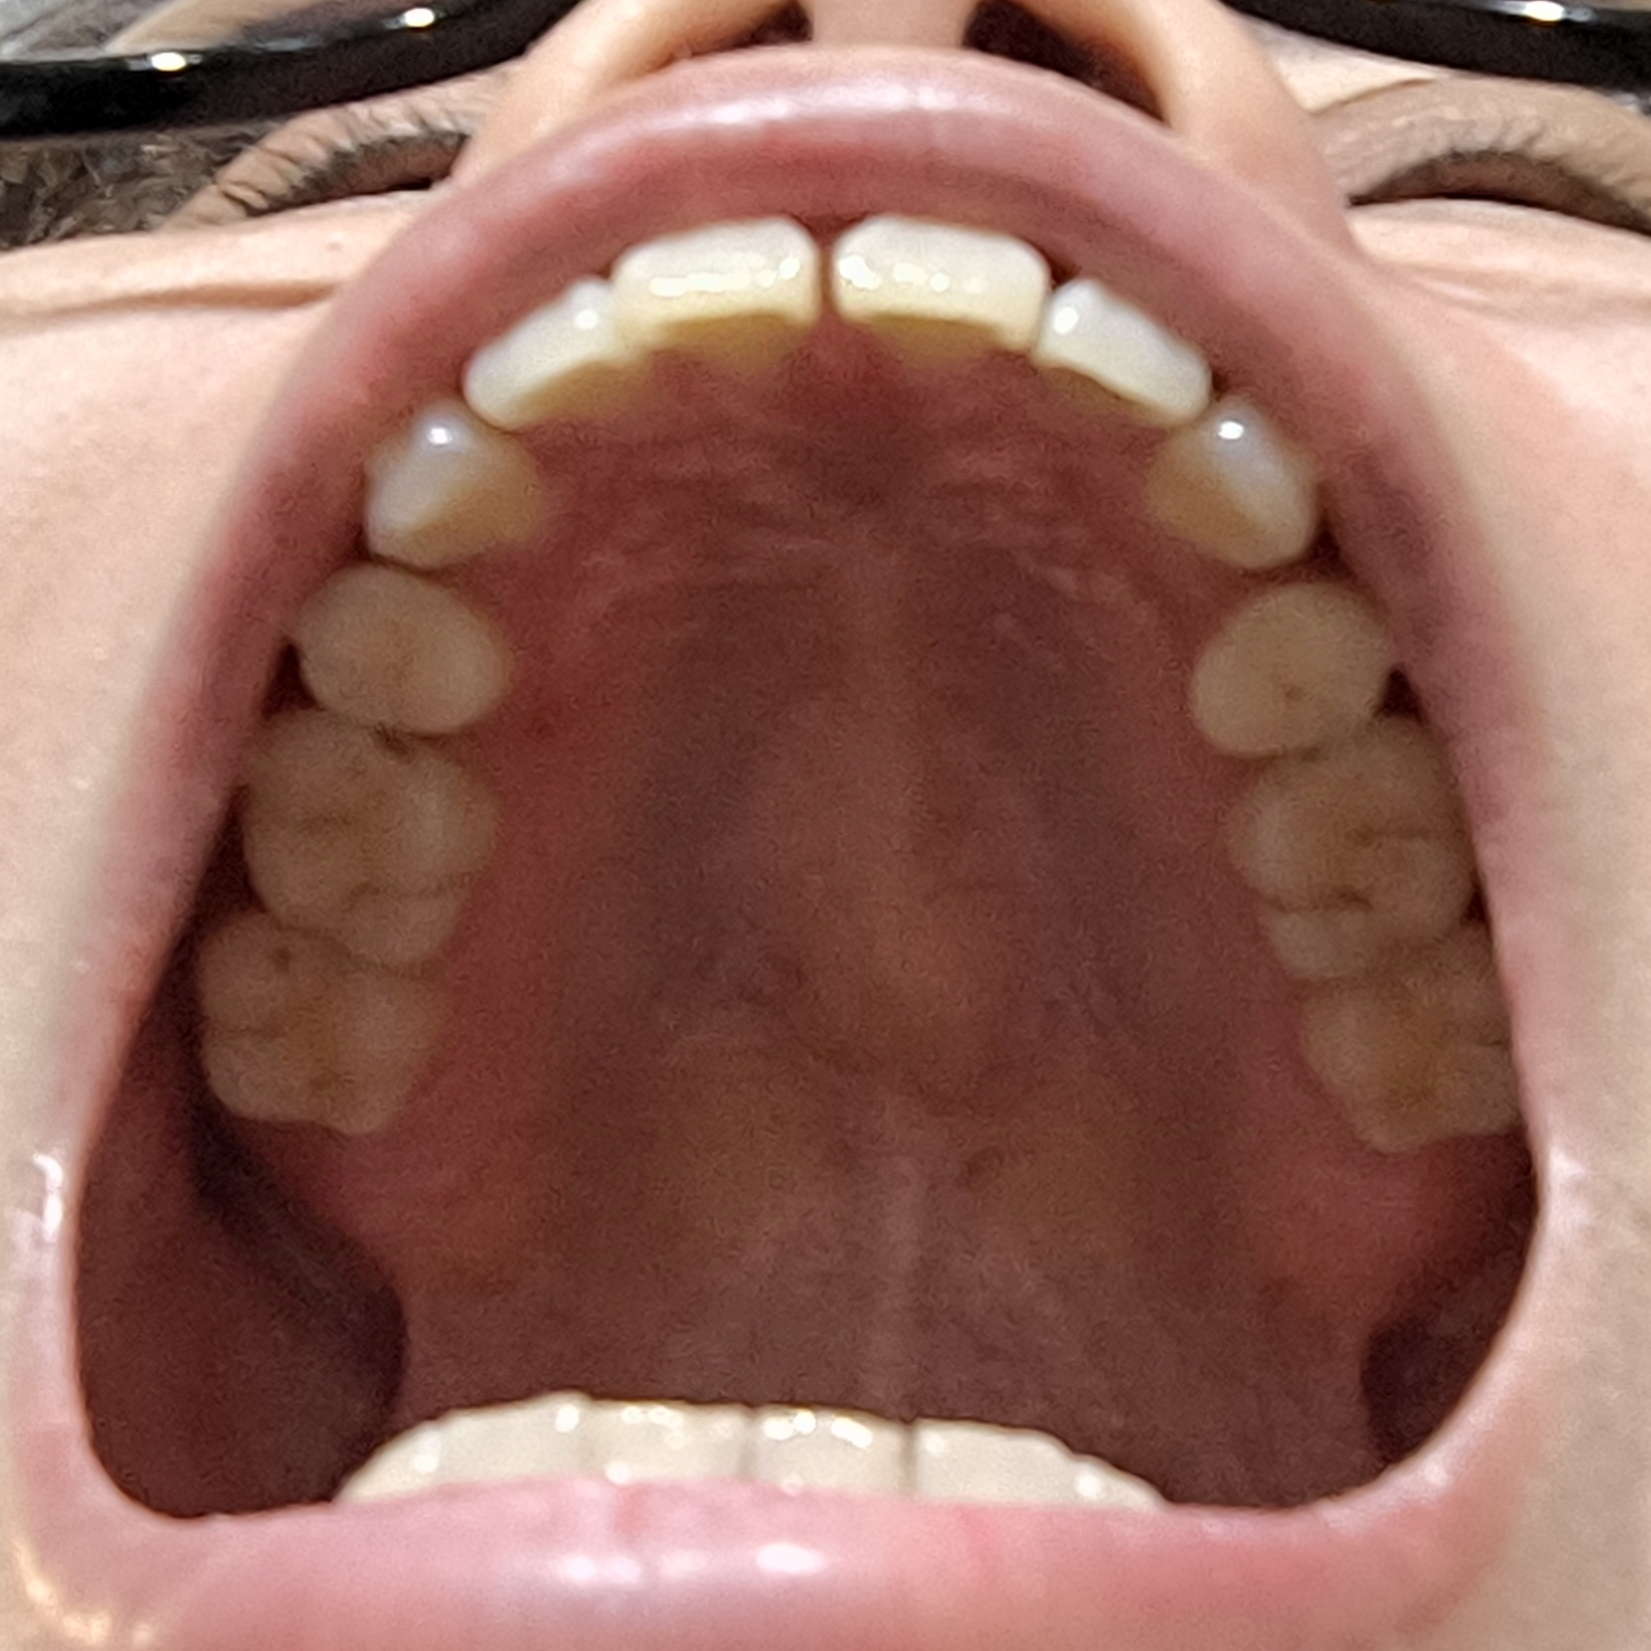teeth: (1234, 717, 1479, 984), (245, 712, 482, 957), (197, 912, 451, 1129), (1309, 937, 1515, 1138), (296, 558, 522, 732), (833, 204, 1054, 370), (1196, 582, 1399, 754), (617, 215, 819, 376), (372, 393, 543, 565), (463, 268, 644, 426), (1033, 271, 1203, 432), (1151, 393, 1306, 558), (757, 1414, 900, 1495), (446, 1391, 581, 1476), (915, 1426, 1069, 1494), (587, 1409, 744, 1474), (336, 1420, 437, 1501), (1084, 1459, 1164, 1500)
